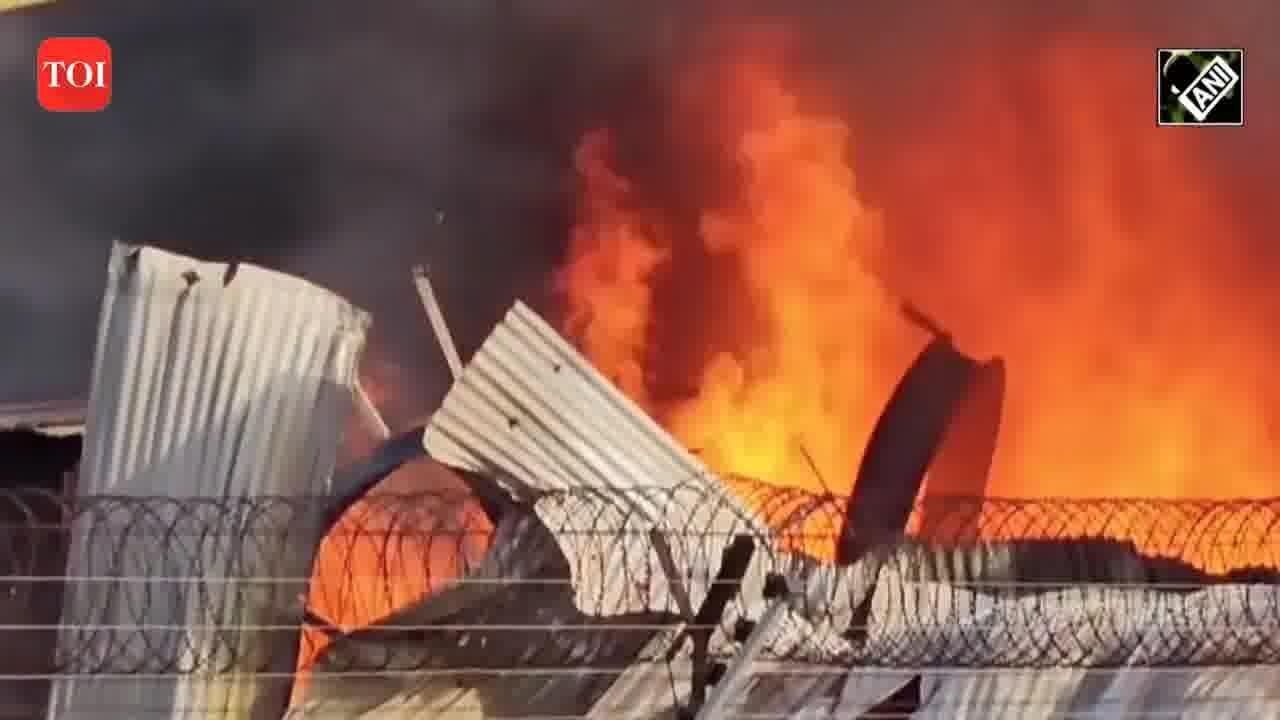fire: (397, 229, 1275, 649)
